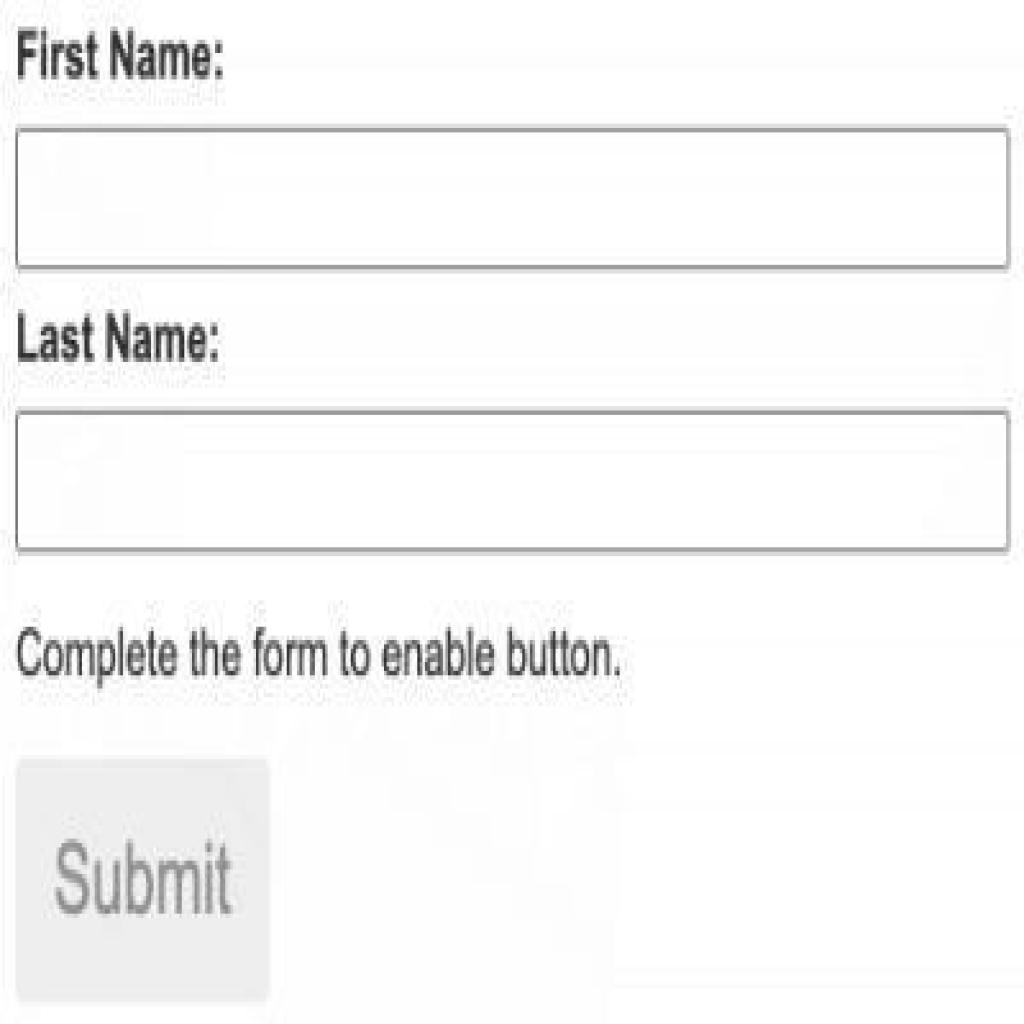button: (13, 755, 271, 1006)
input: (18, 410, 1011, 552), (16, 128, 1012, 269)
label: (13, 618, 622, 688), (16, 26, 226, 92), (15, 309, 223, 375)
